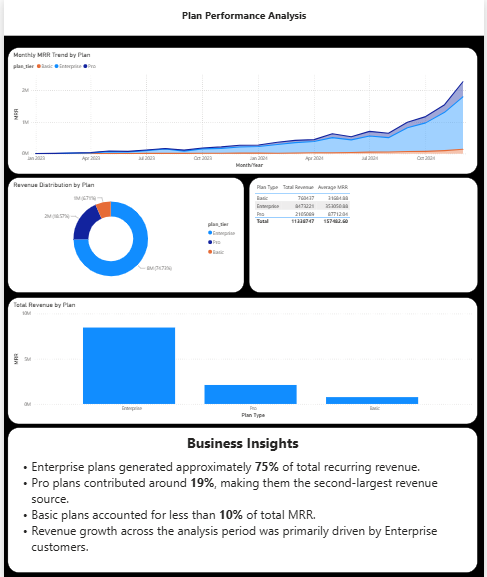

Layout of this report page (visuals, bound fields, positions):
{"tool":"powerbi","page":{"name":"Plan Performance Analysis","canvas":[1280,1550],"ordinal":2},"visuals":[{"type":"stackedAreaChart","title":"Monthly MRR Trend by Plan","fields":{"Y":["Sum(monthly_mrr_byPlan.mrr_amount)"],"Series":["monthly_mrr_byPlan.plan_tier"],"Category":["monthly_mrr_byPlan.year_and_month"]},"box":[10,125,1252.5,337.5],"z":0},{"type":"donutChart","title":"Revenue Distribution by Plan","fields":{"Category":["monthly_mrr_byPlan.plan_tier"],"Y":["Sum(monthly_mrr_byPlan.mrr_amount)"]},"box":[10,472.5,630,307.5],"z":1000},{"type":"clusteredColumnChart","title":"Total Revenue by Plan","fields":{"Category":["monthly_mrr_byPlan.plan_tier"],"Y":["Sum(monthly_mrr_byPlan.mrr_amount)"]},"box":[10,792.5,1252.5,337.5],"z":2000},{"type":"tableEx","fields":{"Values":["monthly_mrr_byPlan.plan_tier","Sum(monthly_mrr_byPlan.mrr_amount)","total_active_cust.account_id","Avg(monthly_mrr_byPlan.mrr_amount)"]},"box":[652.5,472.5,610,307.5],"z":3000},{"type":"textbox","box":[10,0,1252.5,95],"z":3001},{"type":"textbox","box":[10,1140,1252.5,387.5],"z":3002}]}

Visuals, with their boxes in screenshot pixels (x1, y1, x2, y2), scaled from the page's 1280x1550 canvas onto the 487x577 screenshot:
"Monthly MRR Trend by Plan" stackedAreaChart: {"x1": 4, "y1": 47, "x2": 480, "y2": 172}
"Revenue Distribution by Plan" donutChart: {"x1": 4, "y1": 176, "x2": 244, "y2": 290}
"Total Revenue by Plan" clusteredColumnChart: {"x1": 4, "y1": 295, "x2": 480, "y2": 421}
tableEx - monthly_mrr_byPlan.plan_tier x Sum(monthly_mrr_byPlan.mrr_amount): {"x1": 248, "y1": 176, "x2": 480, "y2": 290}
textbox: {"x1": 4, "y1": 0, "x2": 480, "y2": 35}
textbox: {"x1": 4, "y1": 424, "x2": 480, "y2": 569}
